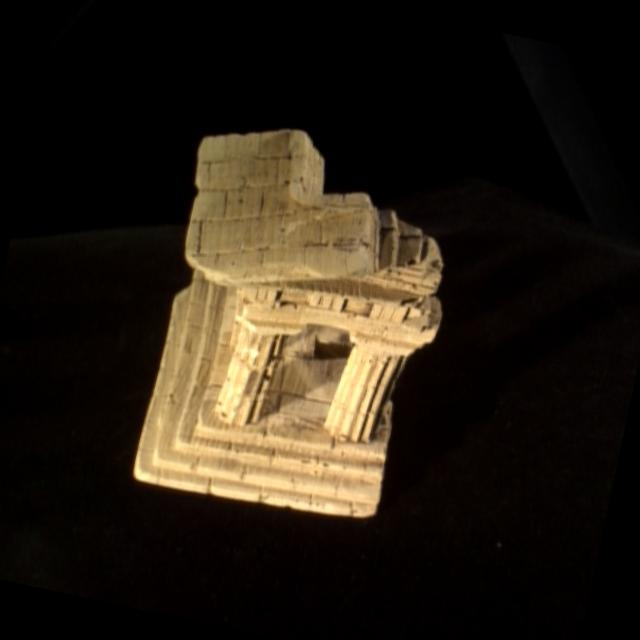Instance-Segmentation: (134, 129, 439, 516)
